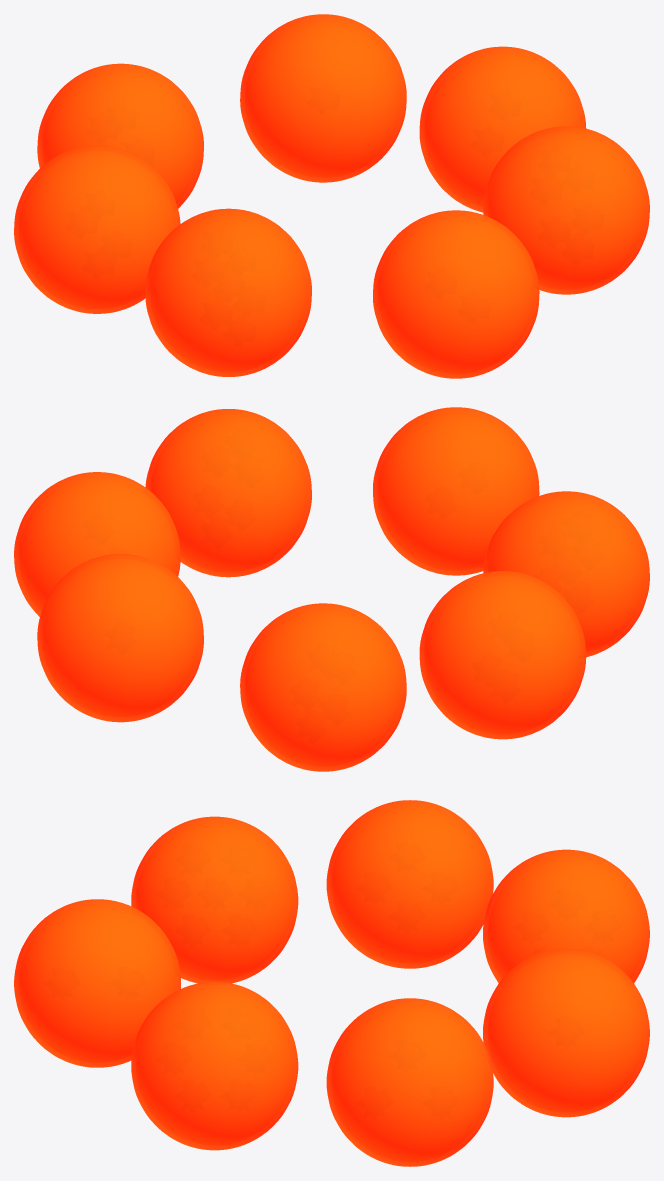
File: esferas_del_dragon.glb
The picture shows the model from 3 angles, top to bottom: view 1: azimuth 30°, elevation 25°; view 2: azimuth 150°, elevation 25°; view 3: azimuth 270°, elevation 25°; orthographic projection.
Parts seen in each view (by area): view 1: Object_4; view 2: Object_4; view 3: Object_4.
Part boxes in pixels (x1,y1,x2,y2): Object_4: [14, 14, 649, 378]; Object_4: [14, 407, 649, 771]; Object_4: [14, 800, 649, 1166].
Size of the model in its own units: 16.28 by 4.34 by 16.28.
